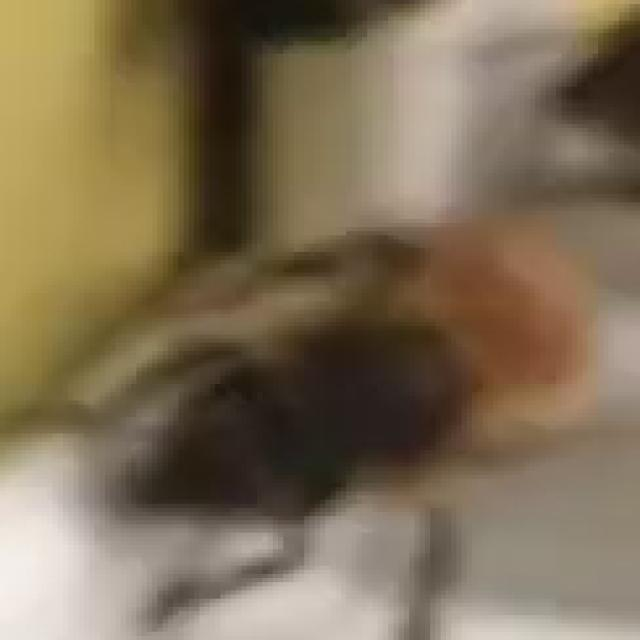honeybee: (64, 167, 577, 612)
